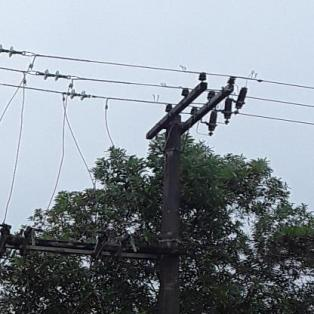Poste: (150, 119, 198, 314)
